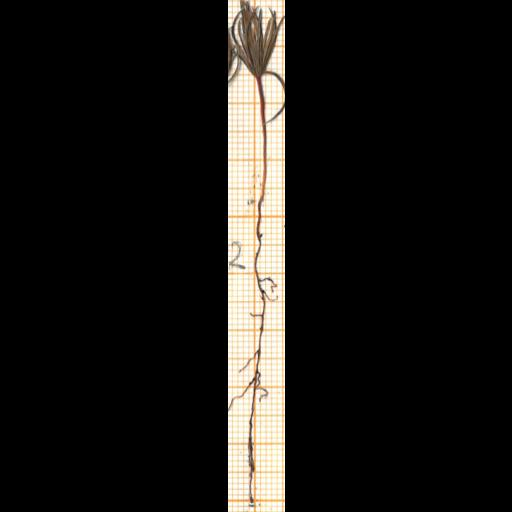flowerPinus: (231, 1, 284, 87)
rootPinus: (227, 201, 276, 507)
stemPinus: (257, 77, 266, 204)
